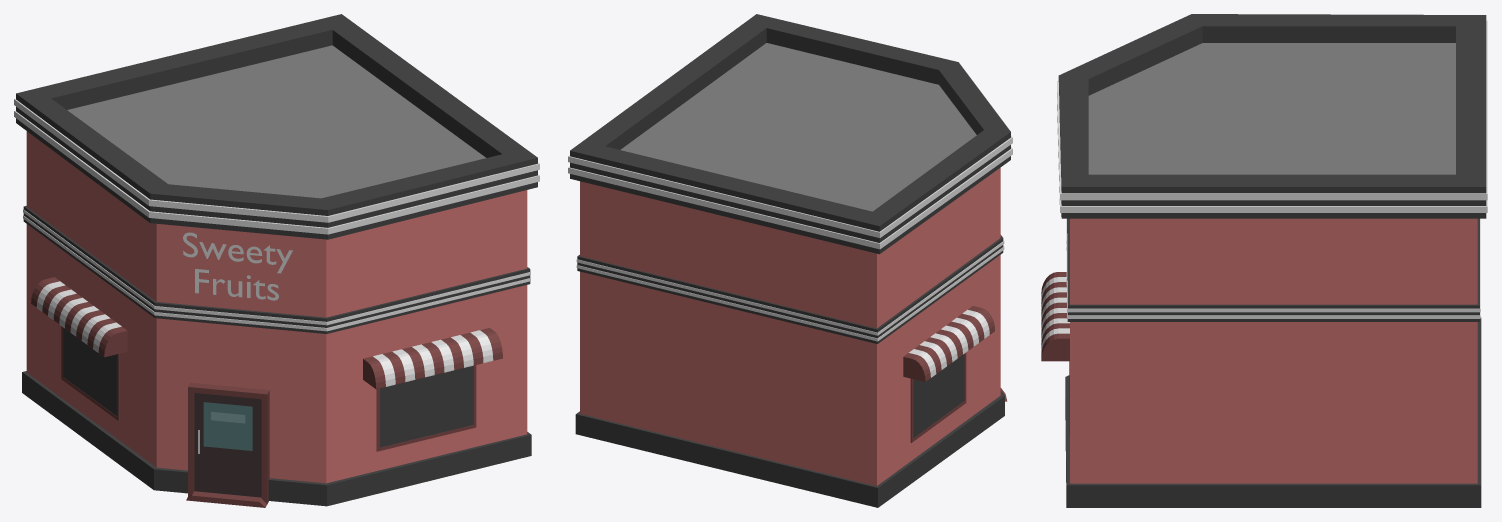
The model's file is Building_FruitStore.fbx.
3 views of the same model, side by side, from view 1: azimuth 30°, elevation 25°; view 2: azimuth 150°, elevation 25°; view 3: azimuth 270°, elevation 25° (orthographic). The views are drawn at different scales.
Parts seen in each view (by area): view 1: Cube, Text; view 2: Cube; view 3: Cube.
Boxes of the visible parts, x1,y1,x2,y2 form: Cube: [14, 14, 539, 507]; Text: [183, 232, 292, 300]; Cube: [568, 14, 1012, 507]; Cube: [1041, 14, 1487, 507].
Bounding box in the file's own units: 1052 × 878 × 1095.
